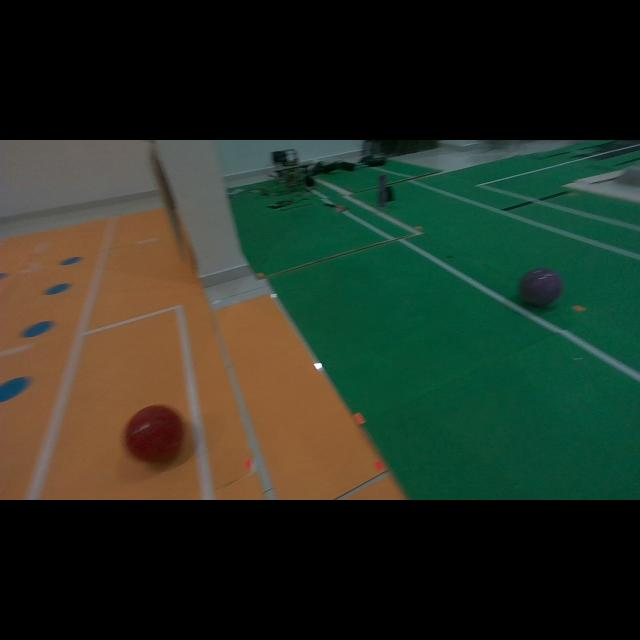P: (520, 269, 562, 306)
R: (125, 405, 184, 462)
